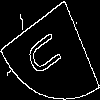U: (25, 24, 68, 80)
